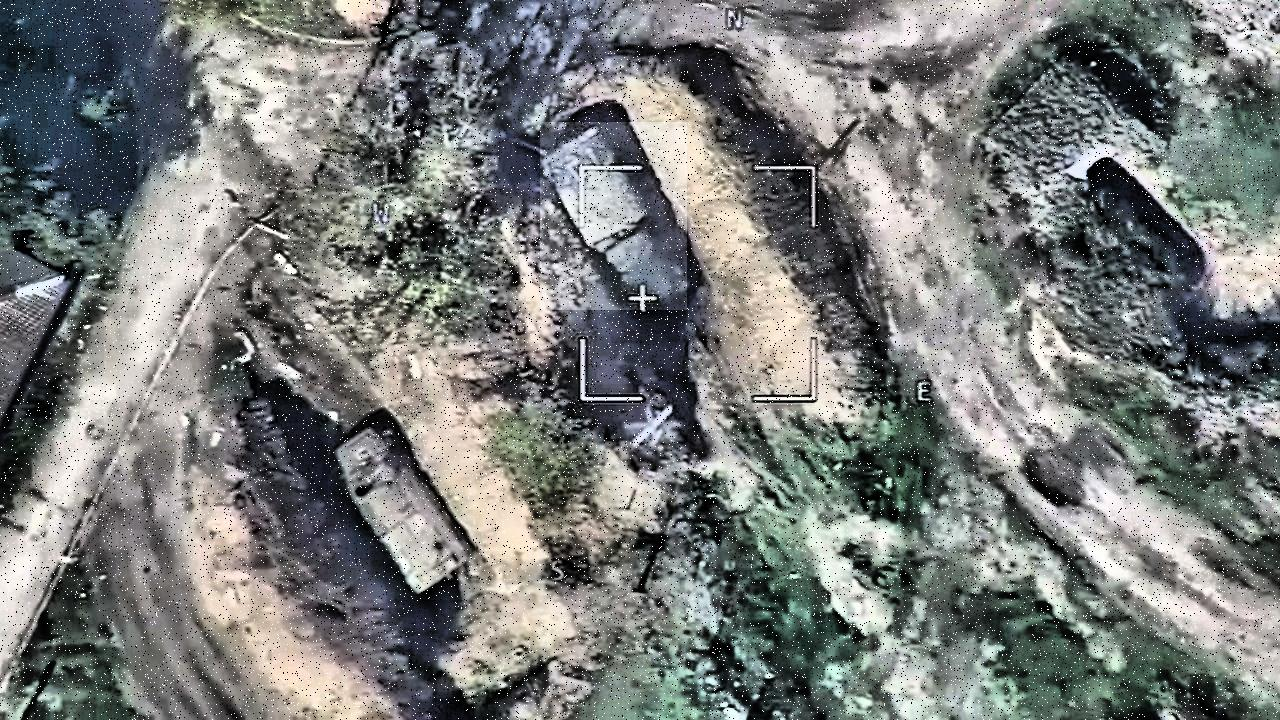military-vehicle: (541, 122, 688, 310), (329, 424, 477, 600)
